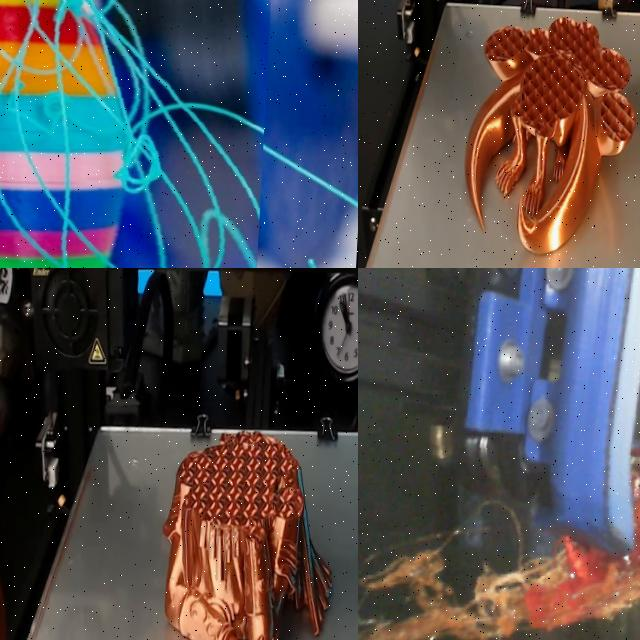spaghetti: (358, 450, 640, 640), (358, 451, 640, 640), (95, 0, 262, 268)
